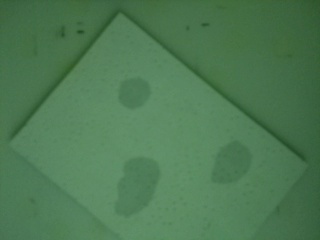Water_detected: (122, 157, 165, 213), (114, 72, 155, 112), (210, 146, 245, 179)
